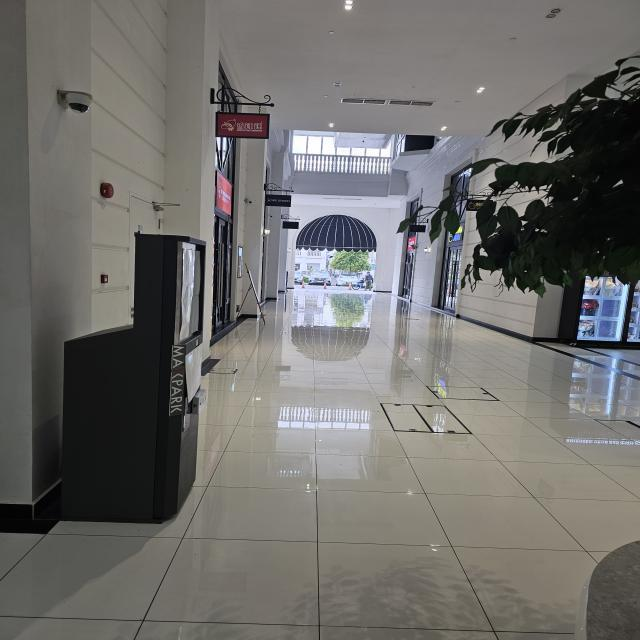footpath: (241, 352, 595, 590), (291, 299, 404, 346)
obstacle: (56, 228, 218, 526)
